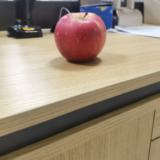apple: (54, 11, 106, 63)
